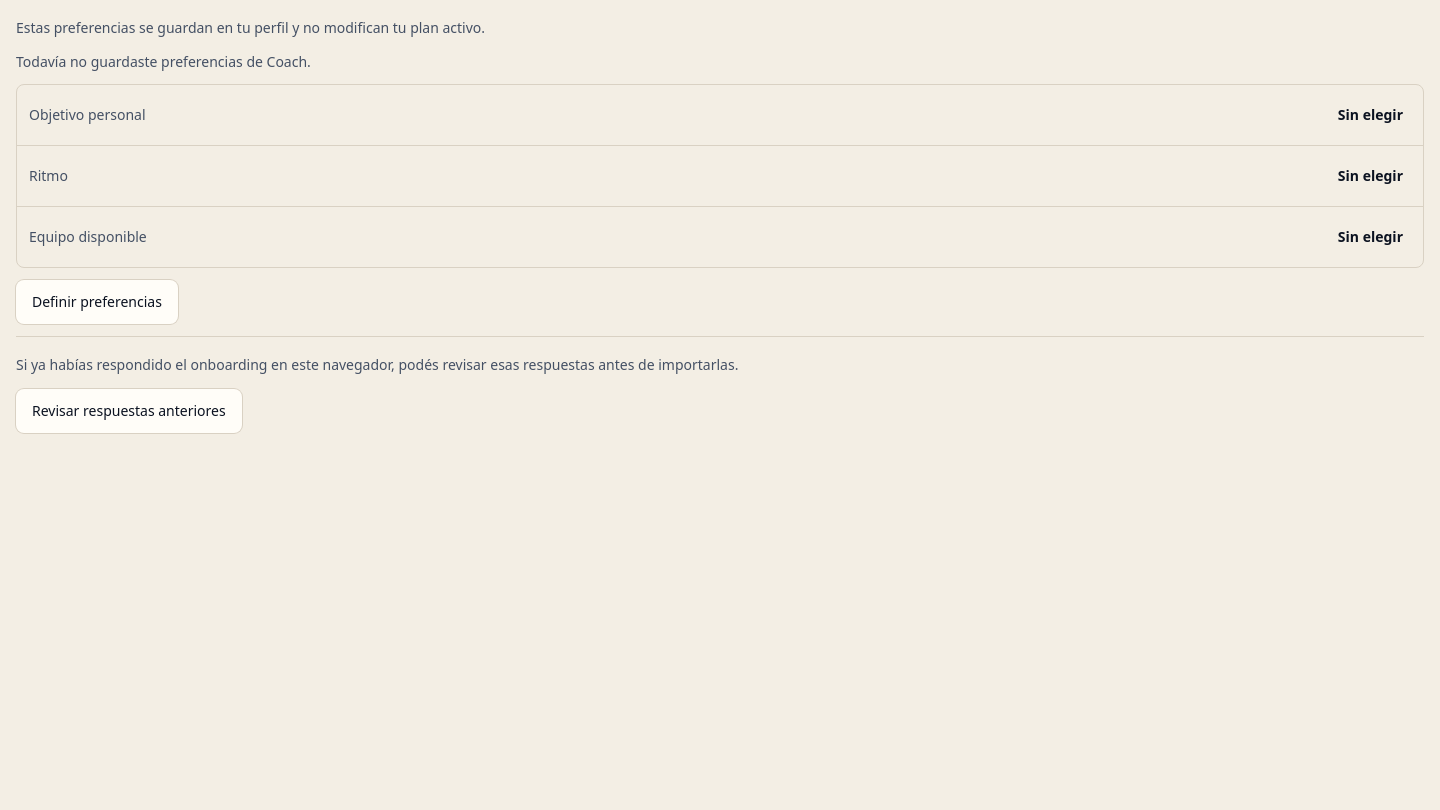
Test case: ProfileCoachContext › imports only after confirmation with a conditional write and refreshes preferences
Check: the text "Todavía no guardaste preferencias de Coach." is shown, box [16,52,311,71]
Click the button "Revisar respuestas anteriores" at (129, 411), box [16,389,242,433]
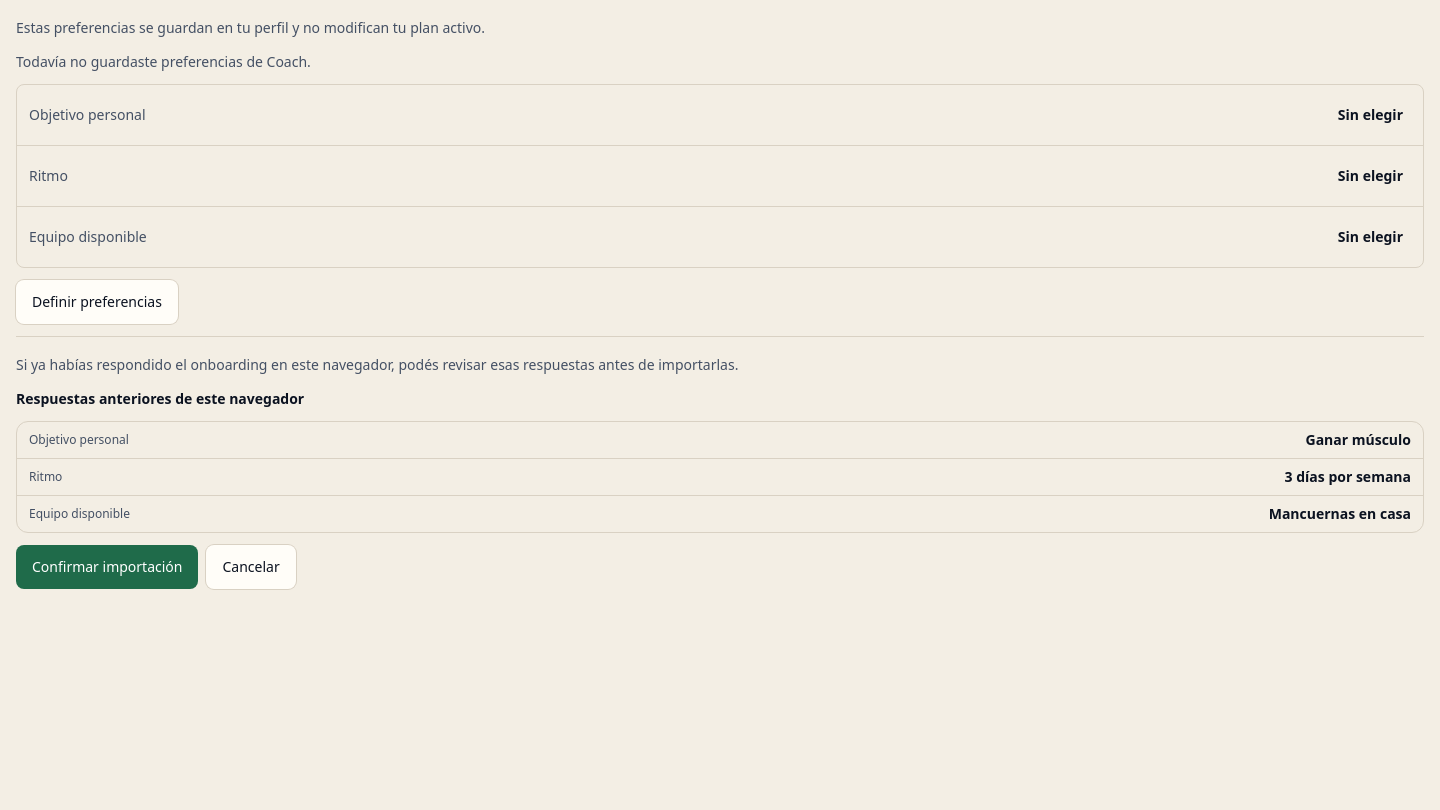
Check: the heading "Respuestas anteriores de este navegador" is shown, box [16,389,304,408]
Click the button "Confirmar importación" at (107, 567), box [16,545,198,589]
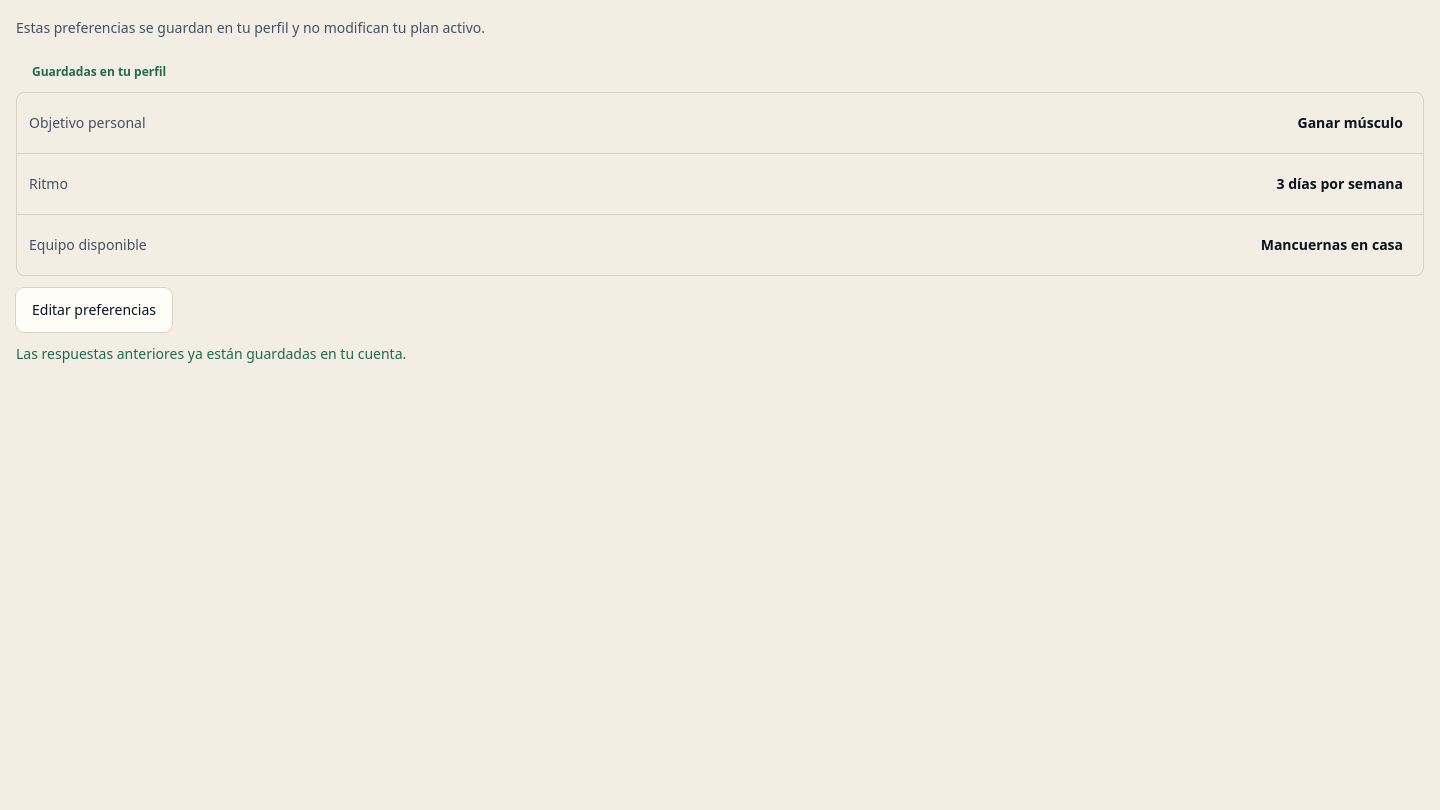
Check: the text "Las respuestas anteriores ya están guardadas en tu cuenta." is shown, box [16,344,406,363]
Check: the button "Ganar músculo" is shown, box [1290,101,1411,145]
